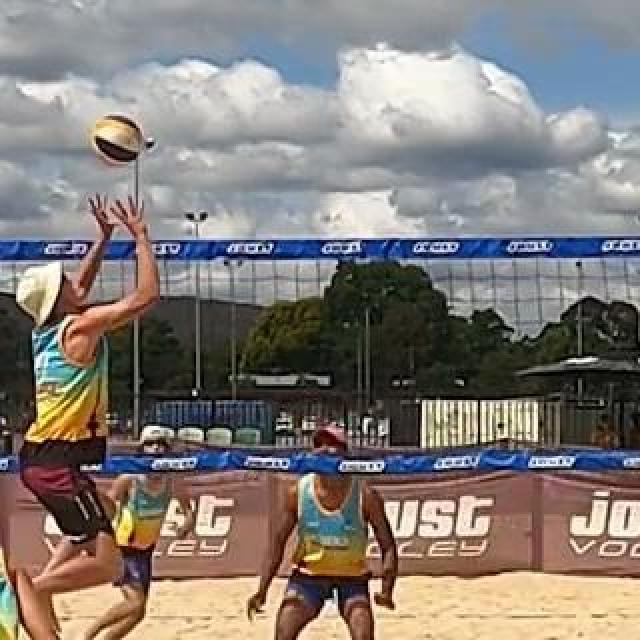volleyball: (92, 115, 142, 165)
